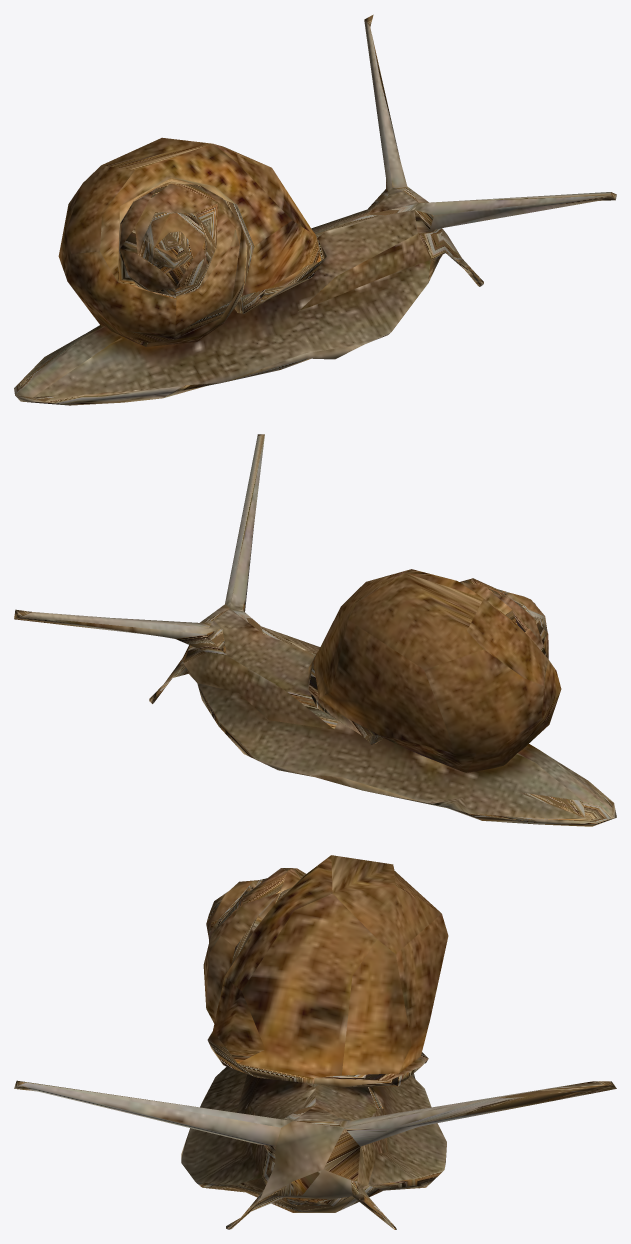
The model's file is swarm.glb.
3 renders of one model, top to bottom at view 1: azimuth 30°, elevation 25°; view 2: azimuth 150°, elevation 25°; view 3: azimuth 270°, elevation 25°, orthographic. The views are drawn at different scales.
Parts seen in each view (by area): view 1: tripo_node_d878a320-d221-4aa3-b615-f7d37db4c666; view 2: tripo_node_d878a320-d221-4aa3-b615-f7d37db4c666; view 3: tripo_node_d878a320-d221-4aa3-b615-f7d37db4c666.
Part boxes in pixels (<box>): tripo_node_d878a320-d221-4aa3-b615-f7d37db4c666: <box>14,14,616,405</box>; tripo_node_d878a320-d221-4aa3-b615-f7d37db4c666: <box>14,434,616,826</box>; tripo_node_d878a320-d221-4aa3-b615-f7d37db4c666: <box>14,855,616,1229</box>.
Size of the model in its own units: 0.34 by 0.1377 by 0.3047.
Materials: 1 (1 with a texture image).
